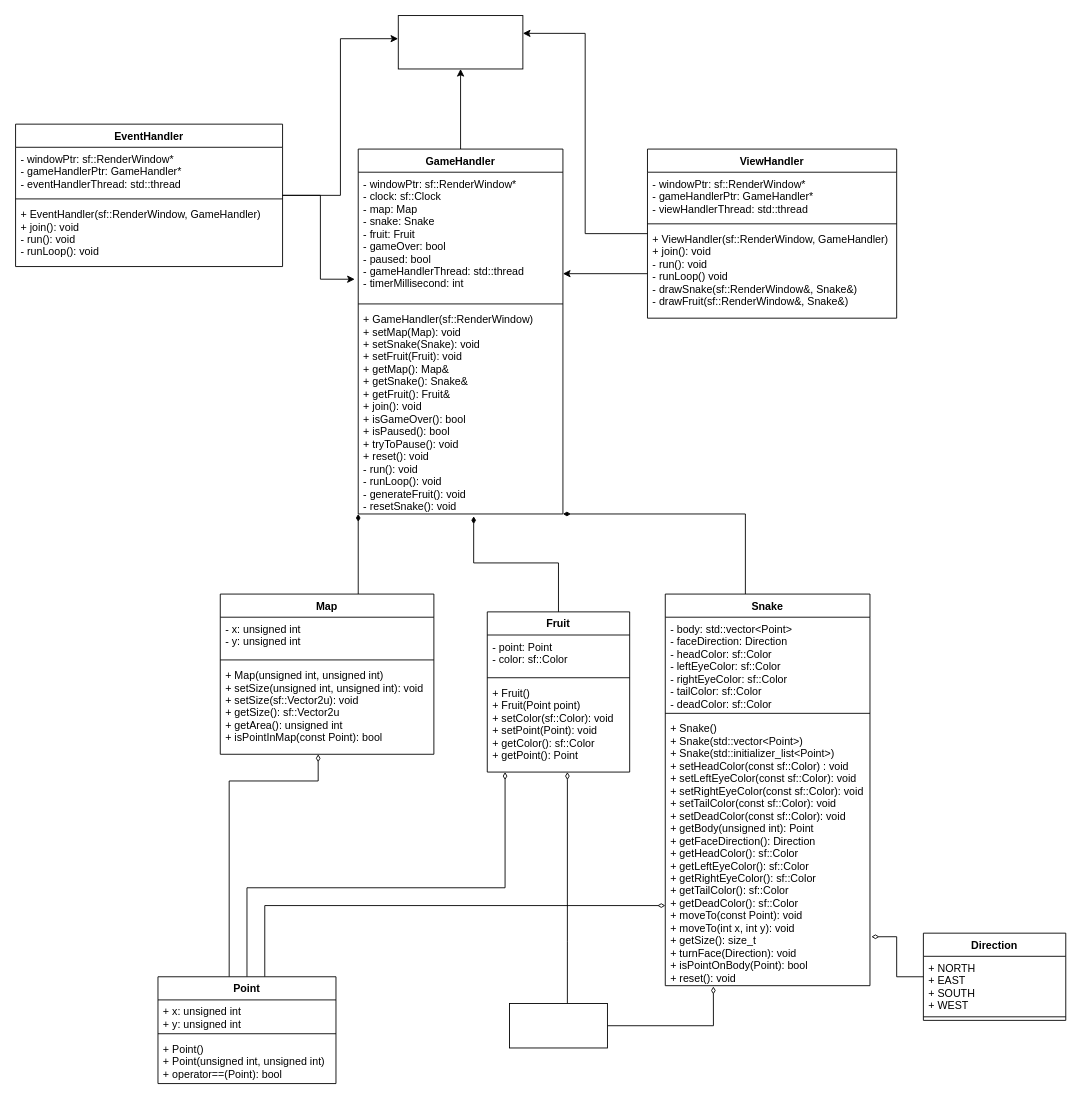
Image size: 1081x1102. Some labels were removed from this diagram. Here are the shapes that lost their labels. From the top down, the centre of each, then its label:
At point 460,42: "sf::RenderWindow".
At point 558,1025: "sf::Color".
